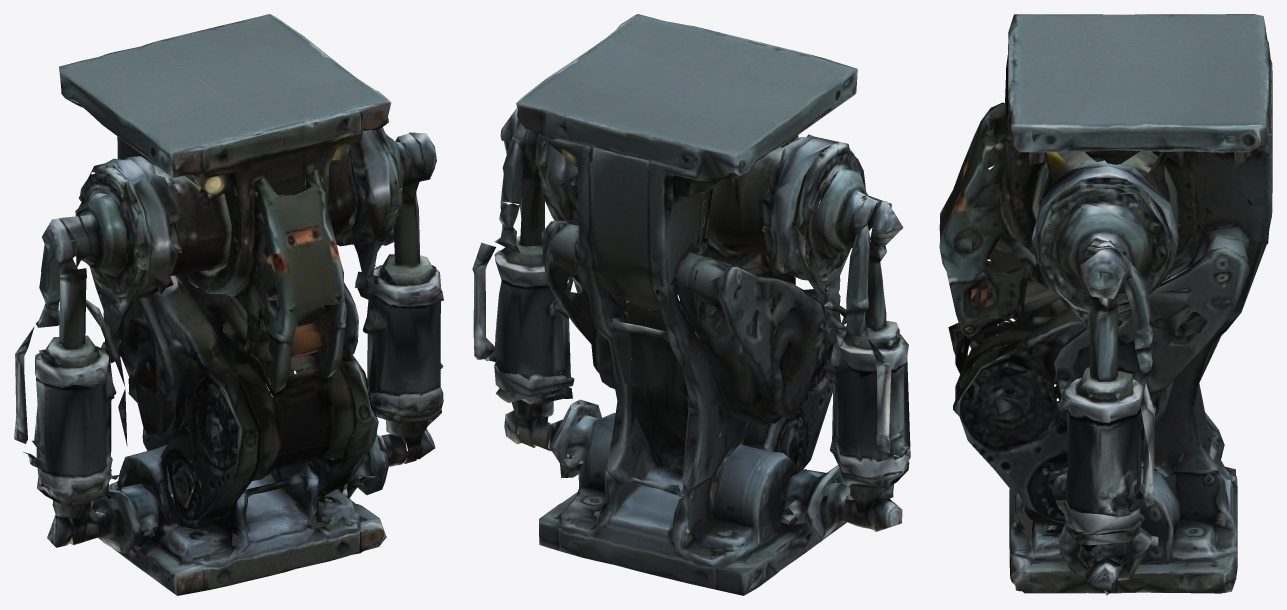
File: pelvis.glb
3 views of the same model, side by side, from view 1: azimuth 30°, elevation 25°; view 2: azimuth 150°, elevation 25°; view 3: azimuth 270°, elevation 25° (orthographic). The views are drawn at different scales.
Visible parts, largest first — view 1: tripo_part_0; view 2: tripo_part_0; view 3: tripo_part_0.
Part boxes in pixels (x1=…): tripo_part_0: x1=14, y1=14, x2=443, y2=595; tripo_part_0: x1=472, y1=14, x2=910, y2=595; tripo_part_0: x1=939, y1=14, x2=1272, y2=595.
Bounding box in the file's own units: 0.9426 × 0.9787 × 0.6281.
1 material, 1 textured.
